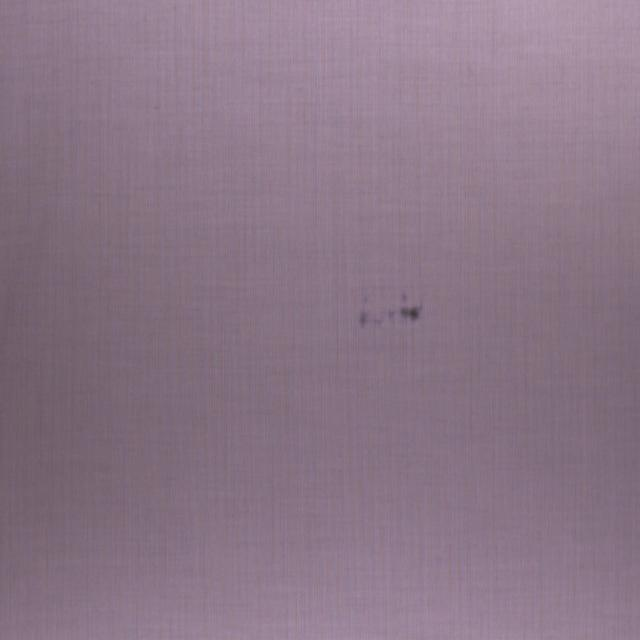dirty: (358, 288, 422, 335)
